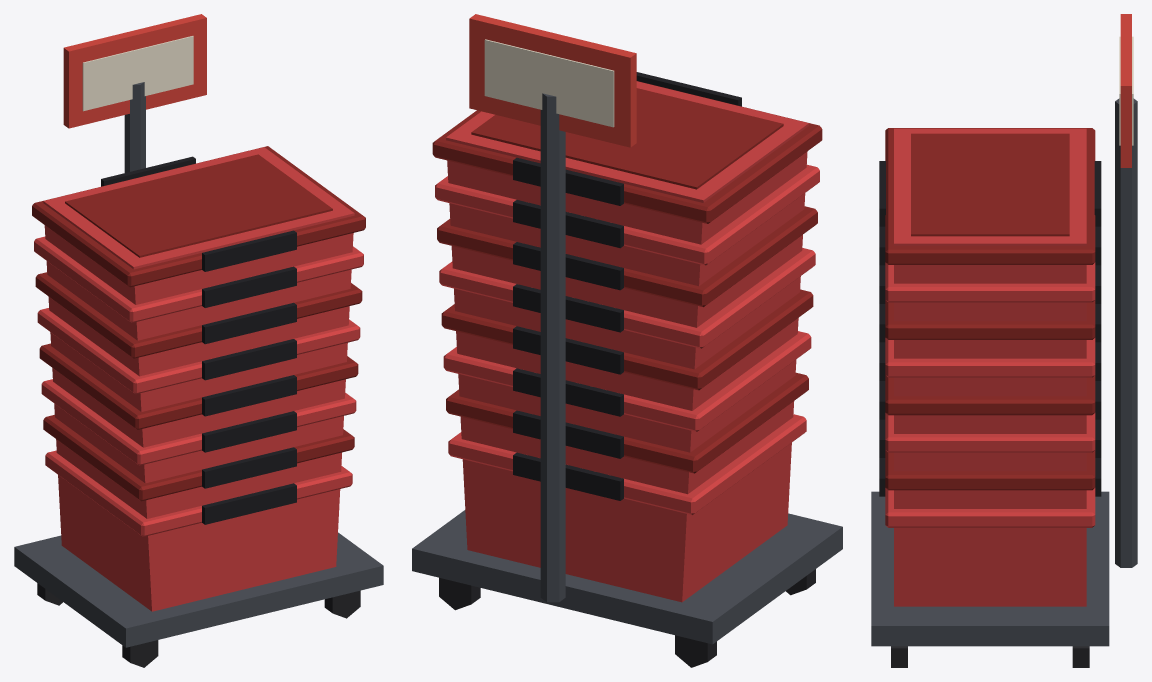
Rendered from Basket_Stack_Tower.fbx.
3 renders of one model, left to right at view 1: azimuth 30°, elevation 25°; view 2: azimuth 150°, elevation 25°; view 3: azimuth 270°, elevation 25°, orthographic. The views are drawn at different scales.
Visible parts, largest first — view 1: Basket_Stack_Tower; view 2: Basket_Stack_Tower; view 3: Basket_Stack_Tower.
Part boxes in pixels (x1,y1,x2,y2): Basket_Stack_Tower: (14,14,383,667); Basket_Stack_Tower: (412,14,842,667); Basket_Stack_Tower: (871,14,1137,667).
Size of the model in its own units: 0.56 by 1.1 by 0.47.
Materials: 1 (1 with a texture image).
